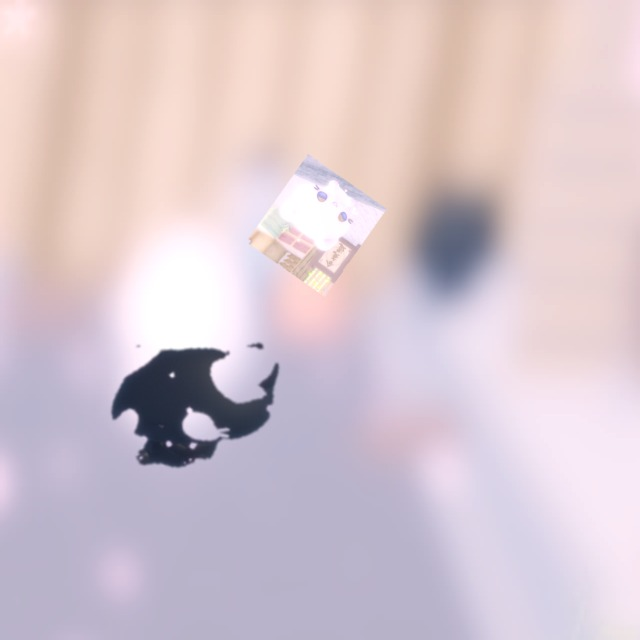urso_branco: (246, 154, 387, 297)
urso_preto: (72, 306, 319, 497)
